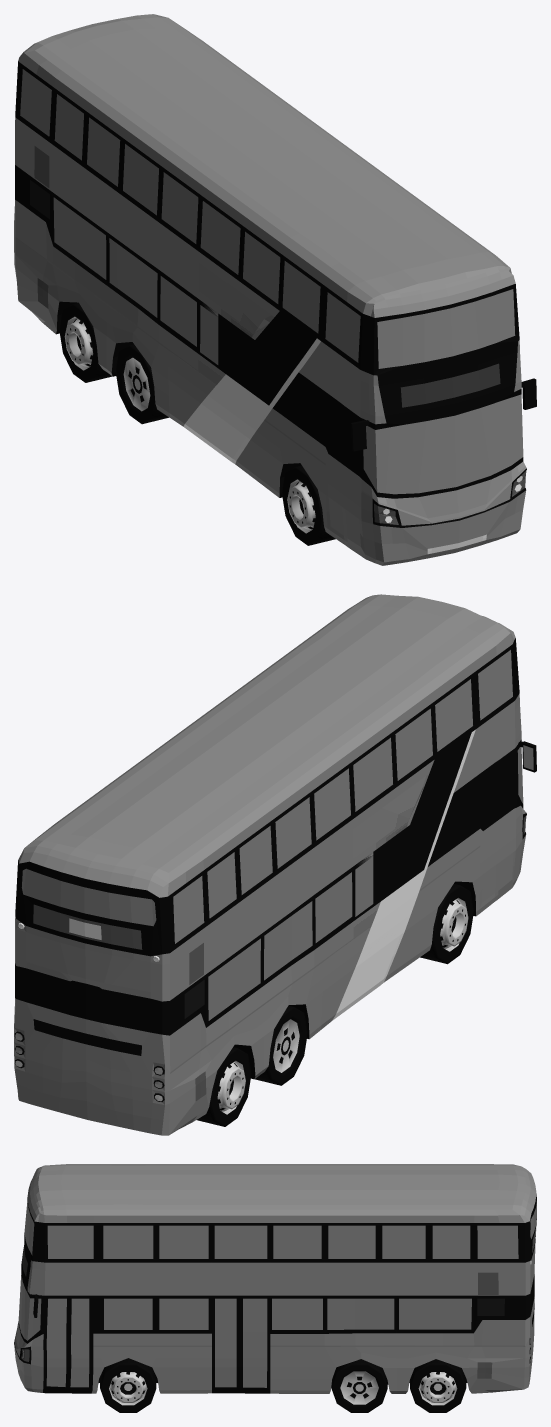
File: bus.gltf
3 views of the same model, one above another, from view 1: azimuth 30°, elevation 25°; view 2: azimuth 150°, elevation 25°; view 3: azimuth 270°, elevation 25° (orthographic). The views are drawn at different scales.
Parts seen in each view (by area): view 1: BusBody_0, WheelBack_3, WheelRightFront_2, Mirror_1; view 2: BusBody_0, WheelBack_3, WheelRightFront_2; view 3: BusBody_0, WheelBack_3, WheelLeftFront_4.
Boxes of the visible parts, x1,y1,x2,y2 form: BusBody_0: (14, 14, 526, 565); WheelBack_3: (59, 303, 168, 424); WheelRightFront_2: (281, 465, 335, 545); Mirror_1: (351, 378, 536, 451); BusBody_0: (14, 594, 526, 1135); WheelBack_3: (197, 1005, 307, 1126); WheelRightFront_2: (420, 884, 473, 964); BusBody_0: (14, 1164, 536, 1393); WheelBack_3: (331, 1359, 466, 1412); WheelLeftFront_4: (100, 1358, 156, 1412).
Size of the model in its own units: 6.34 by 9.64 by 22.41.
Materials: 1 (1 with a texture image).
